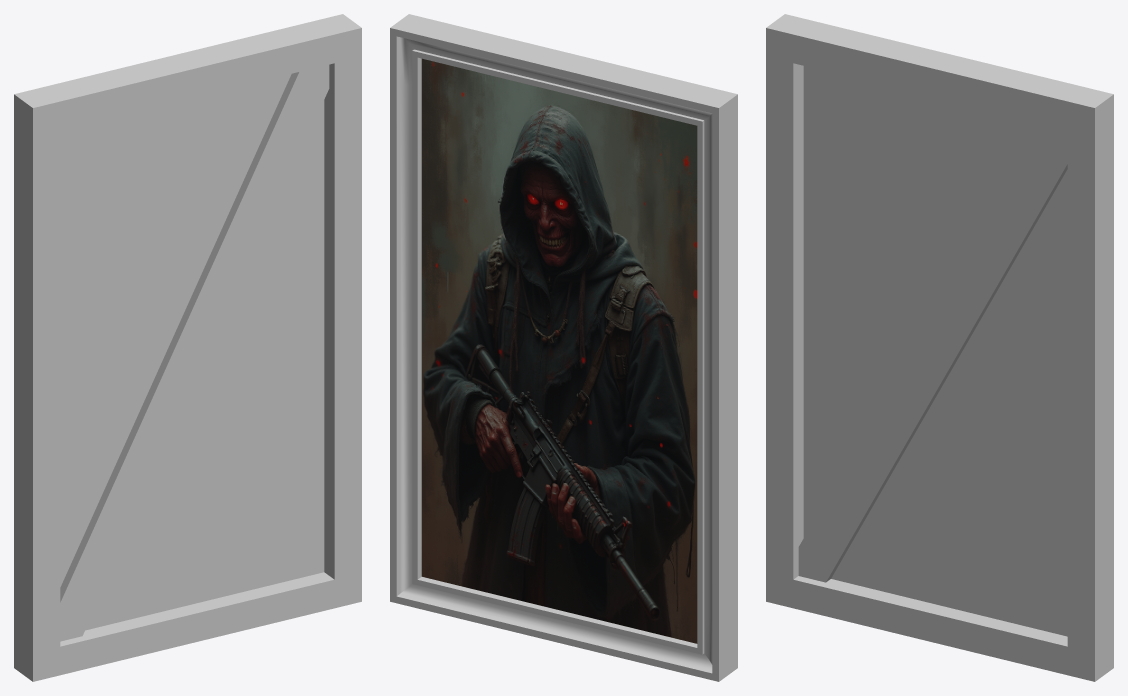
File: Asset Figura.fbx
3 views of the same model, side by side, from view 1: azimuth 30°, elevation 25°; view 2: azimuth 150°, elevation 25°; view 3: azimuth 330°, elevation 25° (orthographic).
Parts seen in each view (by area): view 1: painting02.001; view 2: painting02.001; view 3: painting02.001.
Boxes of the visible parts, <box> form: painting02.001: <box>14,14,361,681</box>; painting02.001: <box>390,14,737,681</box>; painting02.001: <box>766,14,1113,681</box>.
Bounding box in the file's own units: 60 × 100 × 6.
